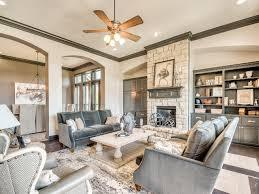chair: (0, 134, 92, 194), (140, 112, 180, 138)
fan: (90, 7, 143, 49)
light: (24, 52, 48, 101), (100, 31, 129, 51), (0, 104, 19, 133), (59, 76, 74, 112), (235, 0, 243, 7), (151, 31, 161, 36)
sofa: (132, 117, 242, 194), (57, 107, 118, 146)
table: (93, 128, 156, 160)
